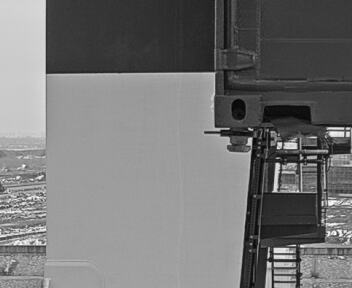twist_lock_1: (213, 120, 262, 160)
